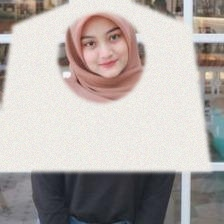Mukena: (0, 0, 211, 172)
